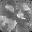people: (16, 9, 25, 20), (5, 4, 14, 14), (8, 21, 17, 31), (2, 17, 12, 26), (0, 13, 8, 20)
